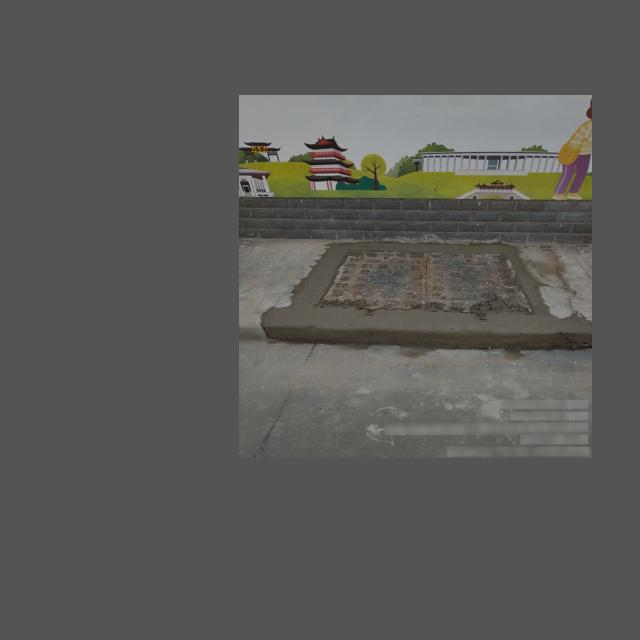good: (311, 248, 541, 321)
